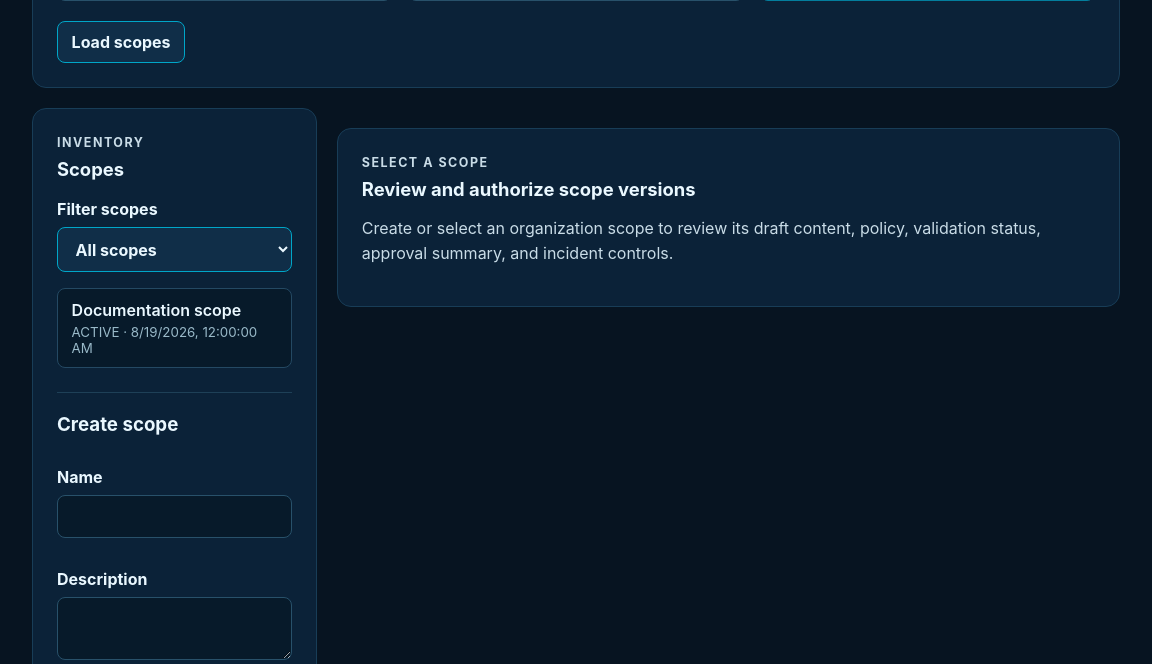
Test case: ScopeAdmin › makes an approved version read-only and offers a new-draft action
(page scrolled)
Click the button "Documentation scope ACTIVE · 8/19/2026, 12:00:00 AM". click: (174, 328)
box: [57,288,292,368]
(page scrolled)
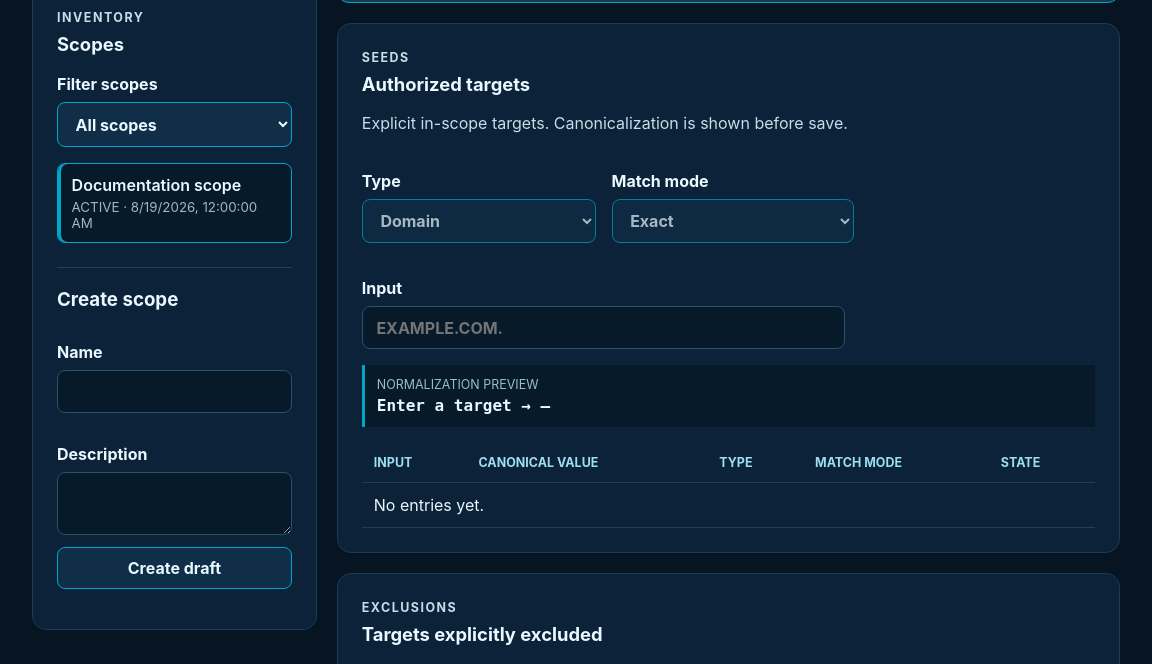
Check: the field named "Seeds input" is disabled, box [362,306,845,349]
